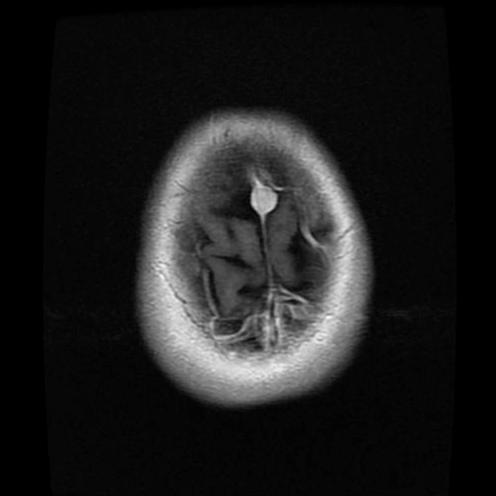Tumour-Pituitary: (227, 174, 297, 231)
